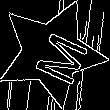M_NW: (19, 21, 84, 84)
